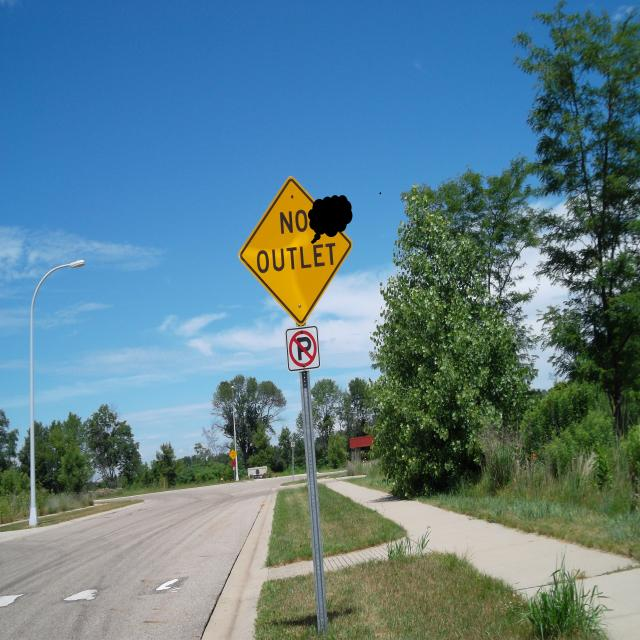regulatory: (286, 322, 321, 371), (291, 441, 295, 448), (232, 466, 236, 471)
warning: (244, 175, 356, 320), (228, 449, 237, 461)
